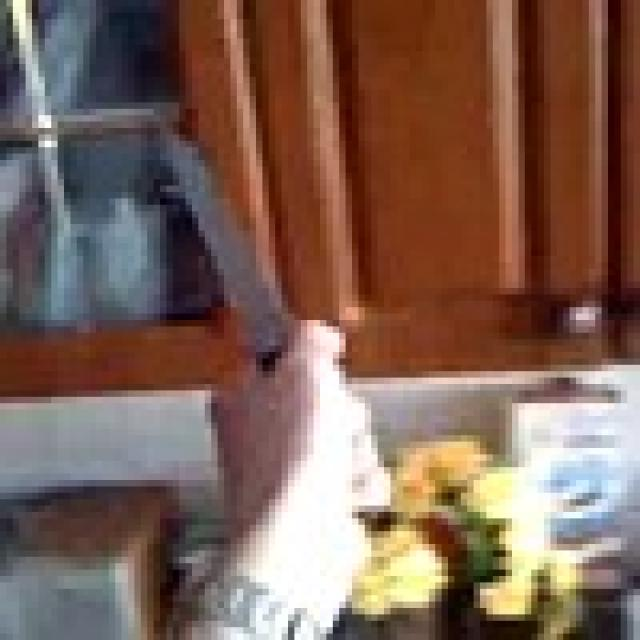Knife: (154, 122, 307, 371)
